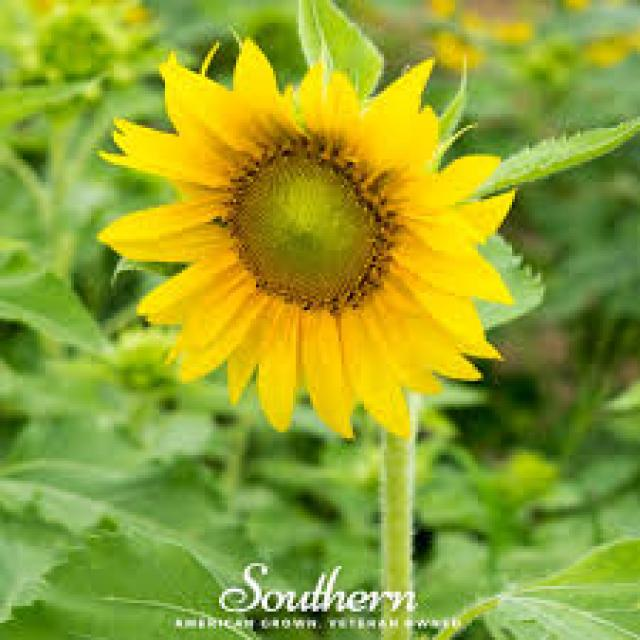sunflower: (81, 27, 520, 458)
